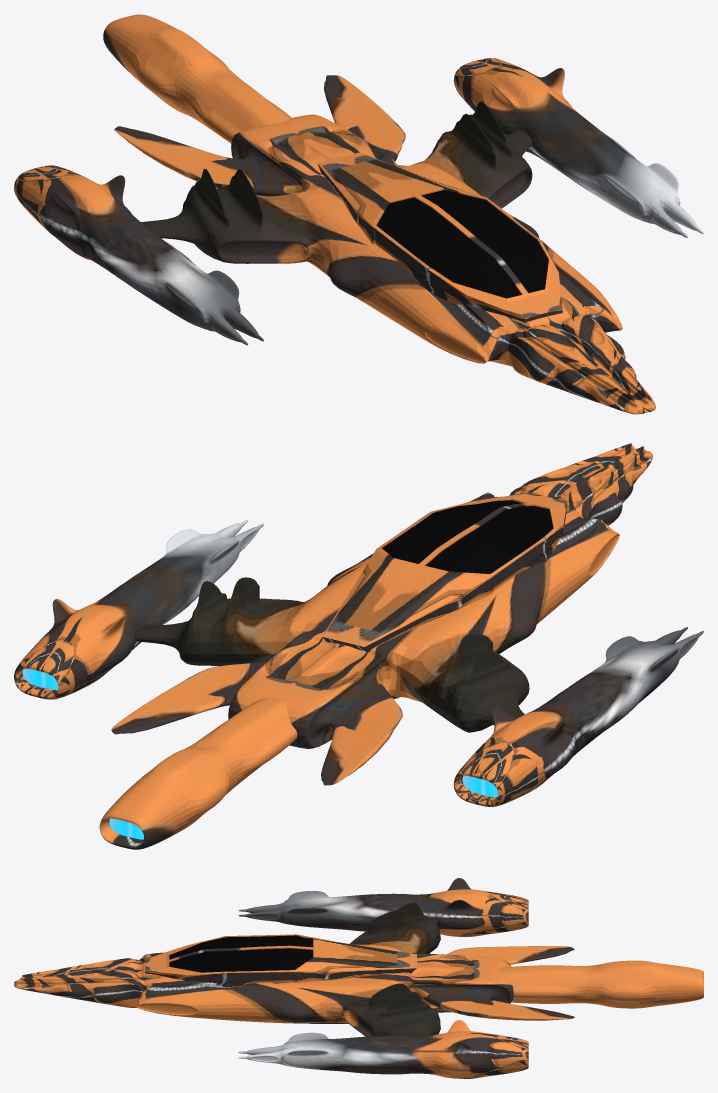
The model's file is radical_spaceship.glb.
The picture shows the model from 3 angles, top to bottom: view 1: azimuth 30°, elevation 25°; view 2: azimuth 150°, elevation 25°; view 3: azimuth 270°, elevation 25°; orthographic projection. The views are drawn at different scales.
Visible parts, largest first — view 1: bodyBottom, engine_right, engine_left, cabine, windows, engine_back; view 2: bodyBottom, engine_right, engine_left, cabine, engine_back, windows; view 3: bodyBottom, engine_left, engine_right, engine_back, cabine, windows.
Part boxes in pixels (x1,y1,x2,y2): bodyBottom: (114, 75, 655, 414); engine_right: (14, 165, 263, 345); engine_left: (453, 58, 703, 237); cabine: (317, 152, 562, 322); windows: (376, 190, 548, 298); engine_back: (103, 14, 291, 143); bodyBottom: (111, 443, 652, 785); engine_right: (453, 627, 703, 806); engine_left: (14, 520, 263, 699); cabine: (322, 492, 567, 652); engine_back: (99, 697, 297, 849); windows: (382, 500, 553, 573); bodyBottom: (14, 902, 574, 1036); engine_left: (238, 1020, 528, 1078); engine_right: (238, 878, 528, 936); engine_back: (500, 960, 703, 1008); cabine: (145, 934, 416, 987); windows: (169, 935, 313, 972).
Bounding box in the file's own units: 11.26 × 1.86 × 19.85.
Materials: 3 (2 with a texture image).
